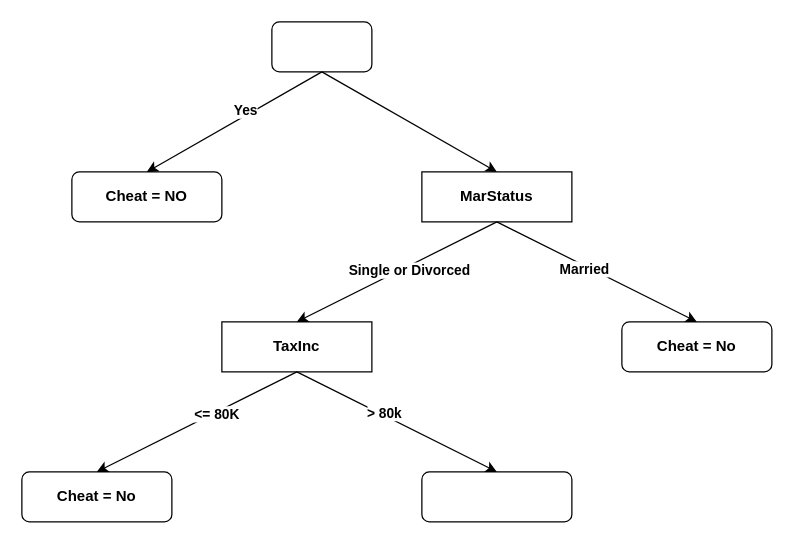
This 794x544 diagram has some shape labels left out. Here are the shapes that lost their labels. From the top down, the centre of each, then its label:
At (x=321, y=46): "Refund".
At (x=496, y=496): "Cheat = Yes".
